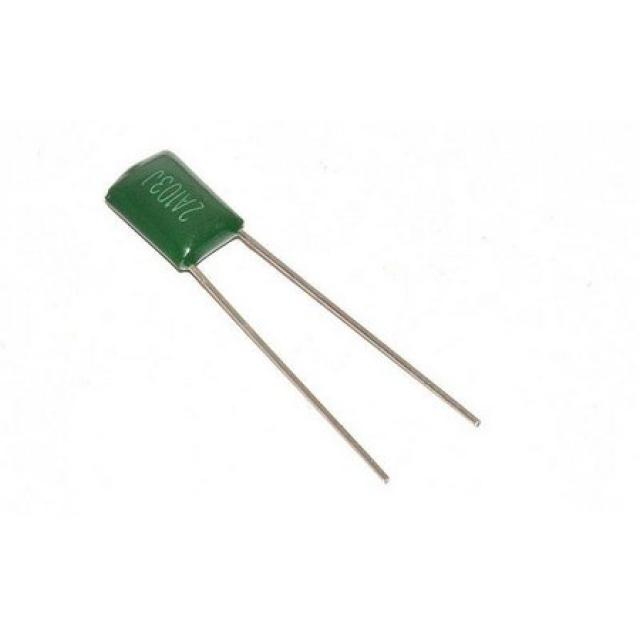Capacitor: (105, 151, 482, 486)
